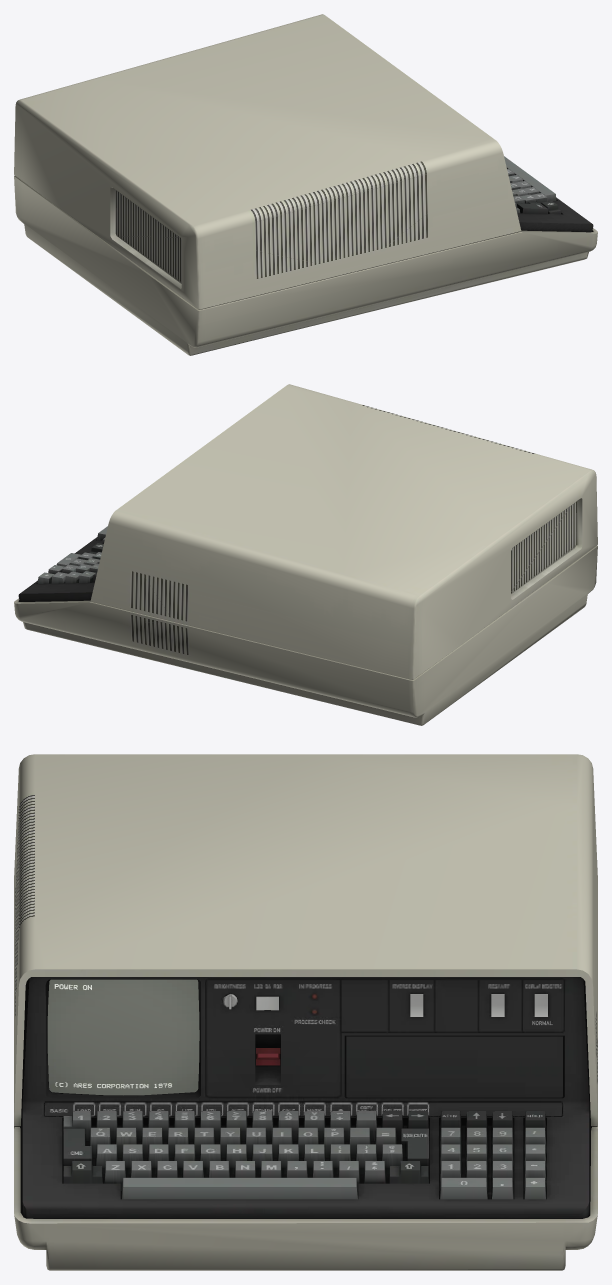
File: ibm_5110-transformed.glb
3 views of the same model, one above another, from view 1: azimuth 30°, elevation 25°; view 2: azimuth 150°, elevation 25°; view 3: azimuth 270°, elevation 25° (orthographic). The views are drawn at different scales.
Visible parts, largest first — view 1: ibm_5110; view 2: ibm_5110; view 3: ibm_5110.
Boxes of the visible parts, bbox=[...] form: ibm_5110: bbox=[14, 14, 597, 355]; ibm_5110: bbox=[14, 384, 597, 725]; ibm_5110: bbox=[14, 754, 597, 1270].
Size of the model in its own units: 32.91 by 11.32 by 26.14.
2 materials, 2 textured.
